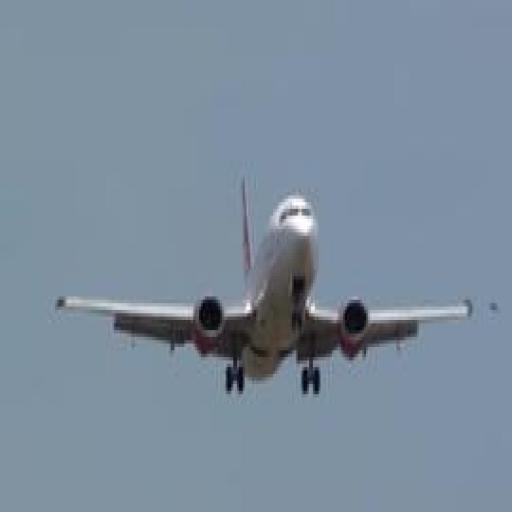aircraft: (55, 172, 474, 396)
